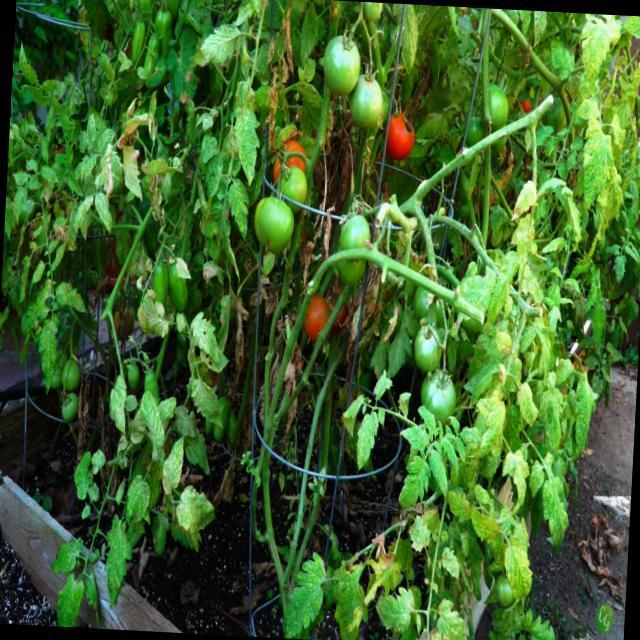Tomato spider mites leaf: (283, 548, 326, 640), (579, 116, 617, 215), (102, 510, 134, 610), (330, 565, 371, 640), (485, 247, 520, 329), (566, 372, 595, 468), (136, 388, 170, 468), (230, 104, 262, 188), (540, 475, 573, 555), (466, 397, 507, 460), (388, 4, 422, 76), (175, 483, 219, 535), (578, 18, 612, 84), (373, 584, 416, 636), (197, 18, 241, 68), (190, 375, 227, 433), (499, 448, 529, 517), (502, 538, 535, 600), (188, 309, 224, 364), (35, 318, 59, 396), (398, 454, 432, 509), (224, 176, 252, 242), (54, 570, 84, 628), (538, 388, 564, 452), (354, 410, 380, 472), (72, 450, 102, 502), (160, 433, 184, 497), (134, 298, 170, 340), (465, 530, 486, 602), (50, 532, 84, 576), (107, 372, 130, 436), (125, 472, 152, 526), (435, 596, 468, 640), (23, 278, 52, 328), (184, 430, 214, 477), (510, 178, 539, 226), (469, 504, 502, 546), (82, 566, 104, 626), (548, 36, 576, 83), (55, 279, 89, 315), (426, 448, 450, 499), (515, 381, 541, 427), (17, 40, 41, 86), (341, 393, 364, 439), (93, 190, 115, 236), (173, 402, 201, 438), (444, 489, 472, 525), (398, 422, 431, 452), (408, 514, 432, 554), (73, 194, 93, 236), (454, 12, 474, 54), (156, 394, 177, 432), (528, 458, 546, 499), (441, 546, 462, 580), (28, 259, 46, 295), (555, 356, 575, 386), (520, 322, 538, 355), (532, 11, 548, 48), (84, 112, 98, 152), (202, 132, 218, 166), (51, 241, 67, 273), (619, 15, 640, 39), (175, 258, 193, 280), (40, 164, 60, 183)
